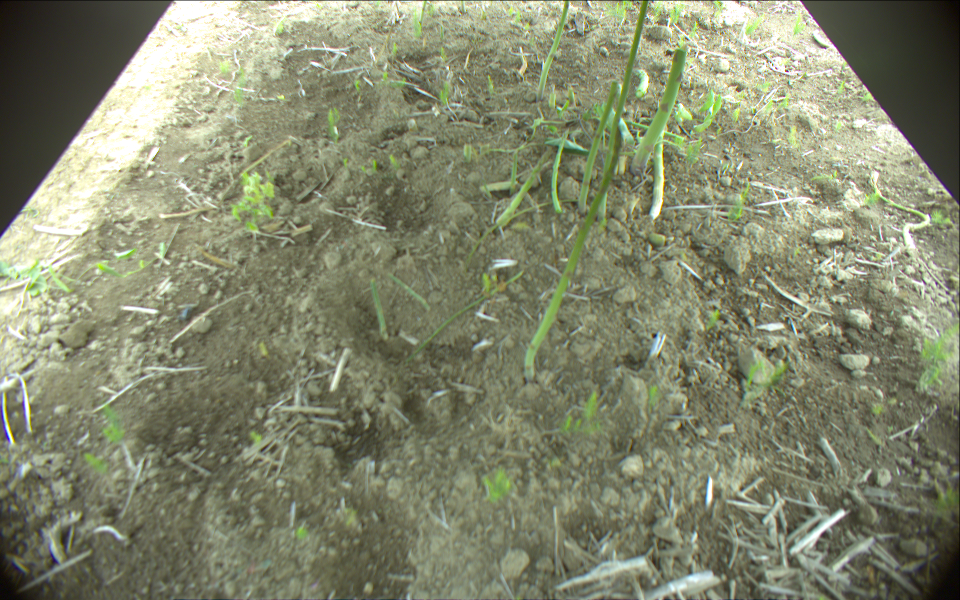aspa: (523, 126, 625, 381), (596, 1, 648, 220), (629, 48, 688, 174), (575, 81, 618, 220), (493, 148, 551, 228), (872, 178, 931, 256), (539, 1, 571, 100), (547, 127, 572, 215), (650, 127, 668, 220), (509, 149, 520, 193), (635, 67, 650, 98), (418, 1, 427, 29), (459, 1, 467, 13)
